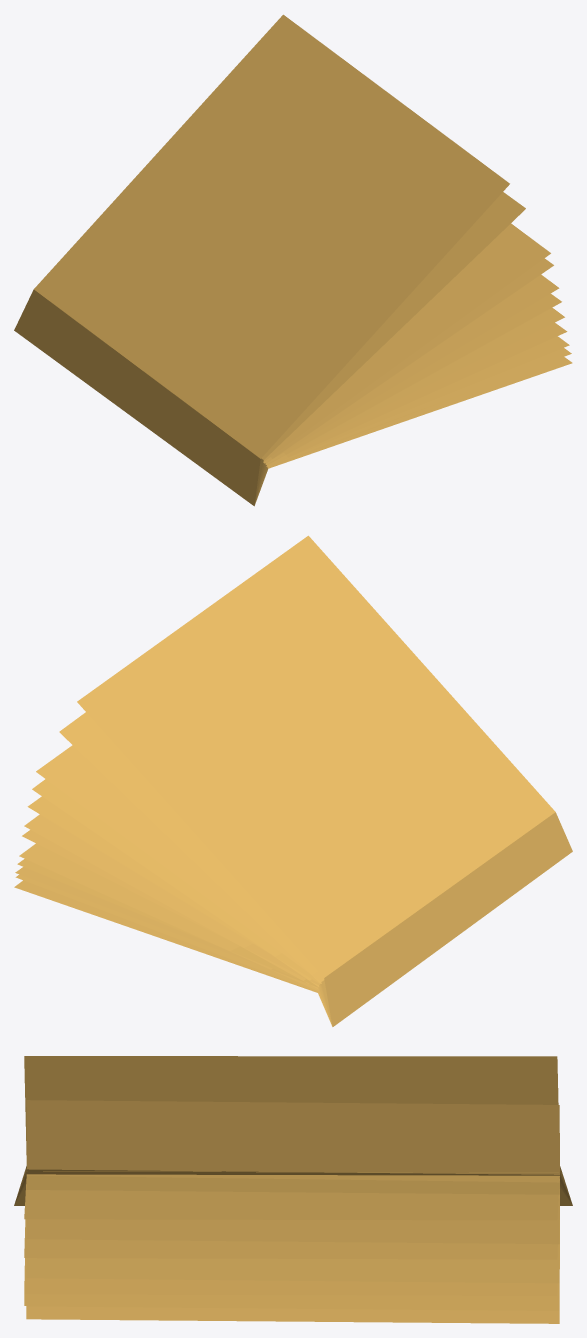
The model's file is Magicpages.fbx.
3 renders of one model, top to bottom at view 1: azimuth 30°, elevation 25°; view 2: azimuth 150°, elevation 25°; view 3: azimuth 270°, elevation 25°, orthographic. The views are drawn at different scales.
Visible parts, largest first — view 1: Cube.002, Cube.004, Cube.005, Cube.006, Cube.008, Cube.007; view 2: Cube.002, Cube.004, Cube.005, Cube.006, Cube.008, Cube.007; view 3: Cube.002, Cube.005, Cube.006, Cube.008, Cube.007, Cube.004.
Boxes of the visible parts, bbox=[...] form: Cube.002: bbox=[14, 14, 525, 506]; Cube.004: bbox=[256, 223, 553, 498]; Cube.005: bbox=[255, 274, 561, 503]; Cube.006: bbox=[256, 307, 567, 500]; Cube.008: bbox=[257, 348, 572, 497]; Cube.007: bbox=[255, 336, 569, 504]; Cube.002: bbox=[59, 535, 572, 1026]; Cube.004: bbox=[32, 745, 332, 1025]; Cube.005: bbox=[24, 796, 331, 1023]; Cube.006: bbox=[19, 830, 331, 1024]; Cube.008: bbox=[14, 867, 328, 1016]; Cube.007: bbox=[15, 859, 331, 1025]; Cube.002: bbox=[15, 1056, 571, 1202]; Cube.005: bbox=[15, 1174, 572, 1244]; Cube.006: bbox=[15, 1177, 571, 1283]; Cube.008: bbox=[14, 1181, 572, 1323]; Cube.007: bbox=[18, 1181, 570, 1310]; Cube.004: bbox=[15, 1171, 569, 1202].
Size of the model in its own units: 204 by 155 by 262.
